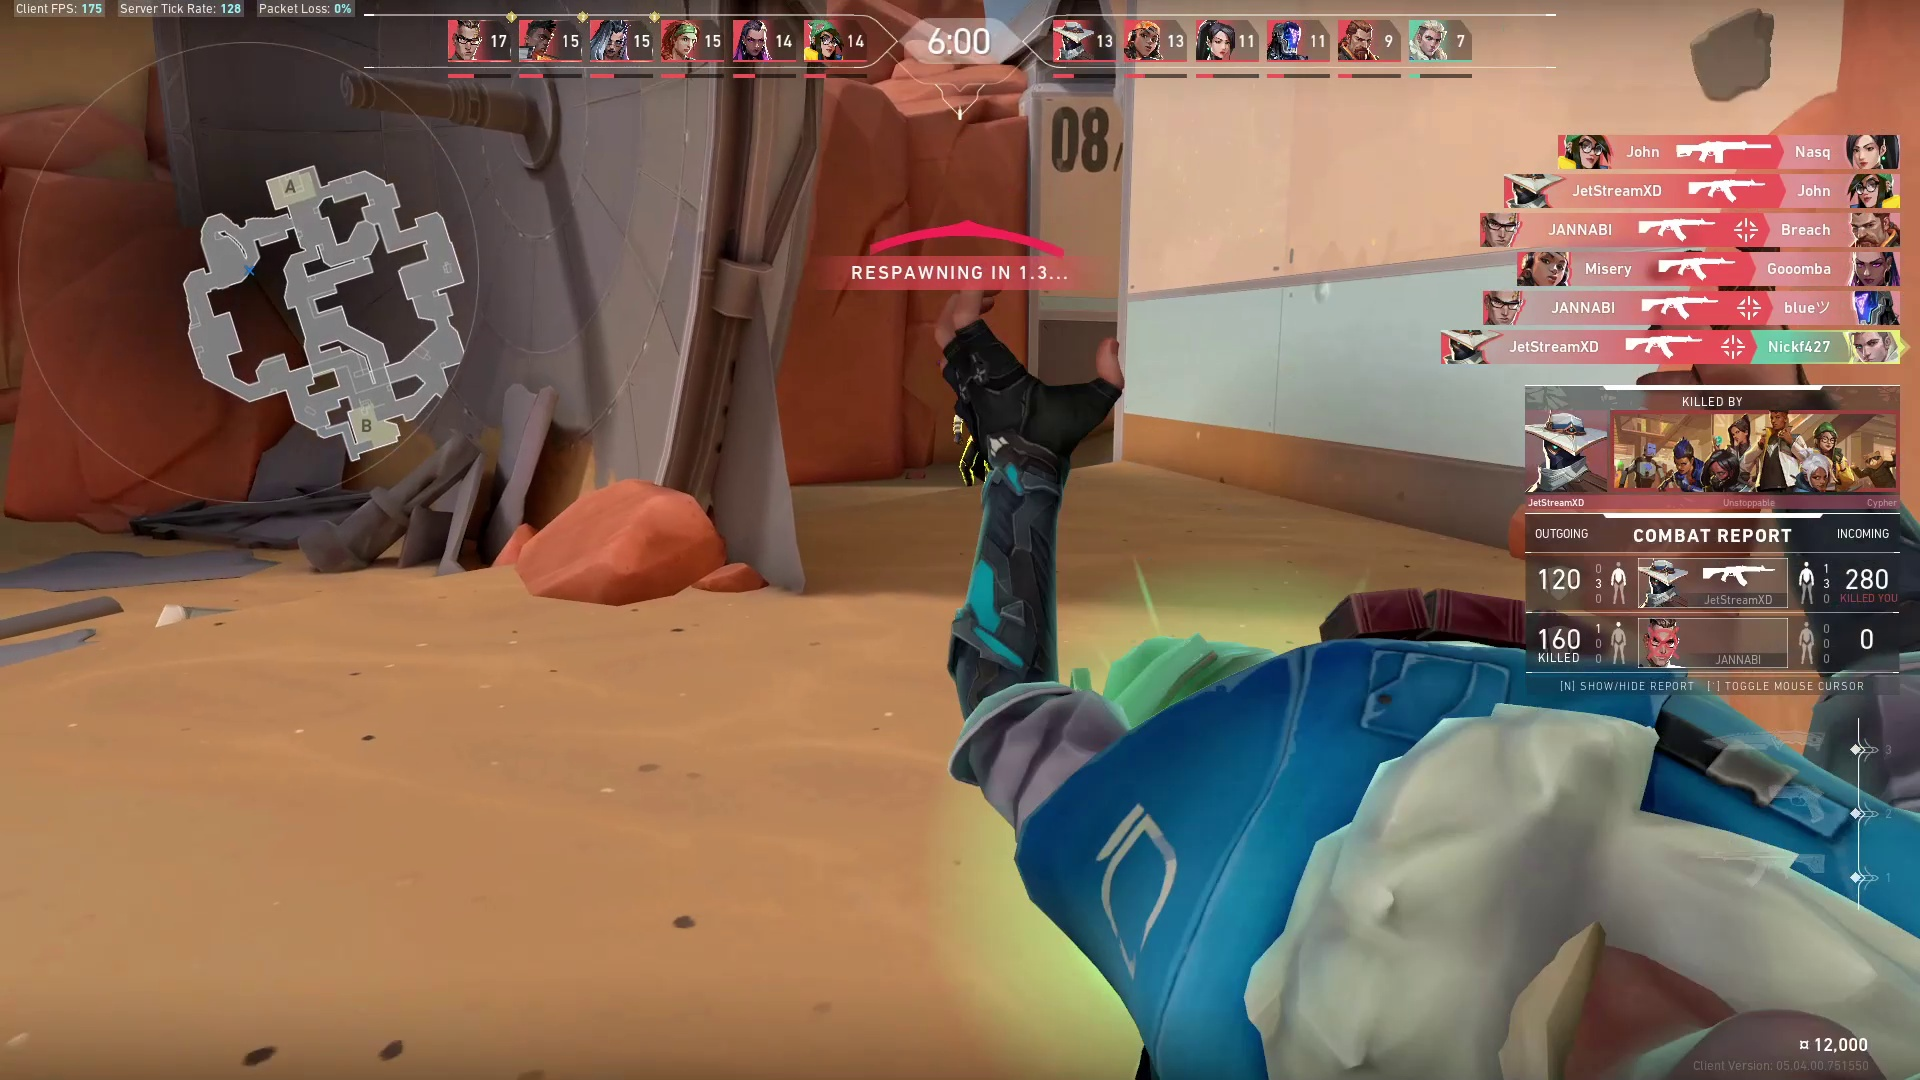enemy_gen: (947, 406, 997, 483)
